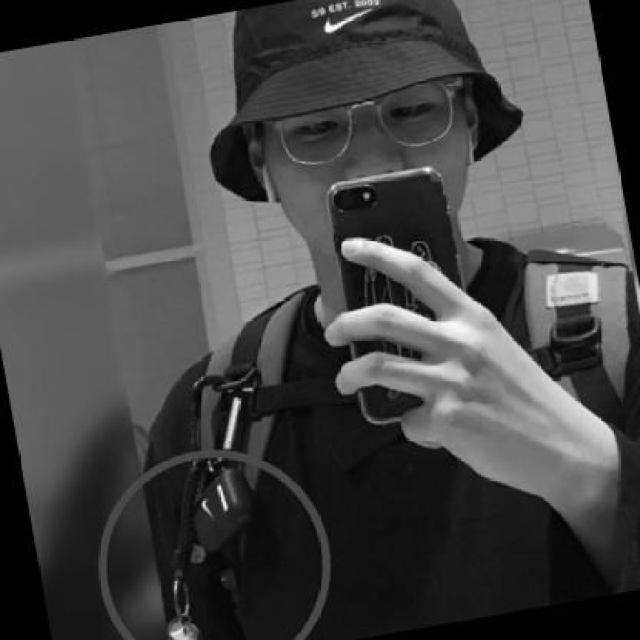earphone: (245, 140, 286, 210), (456, 115, 494, 180)
smart phone: (326, 158, 474, 436)
